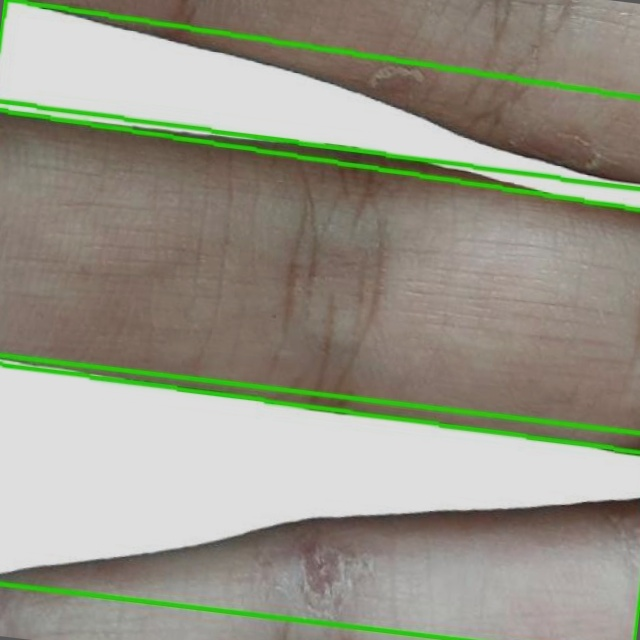Atopic Dermatitis: (0, 102, 639, 452), (0, 356, 639, 639), (0, 0, 639, 210)
